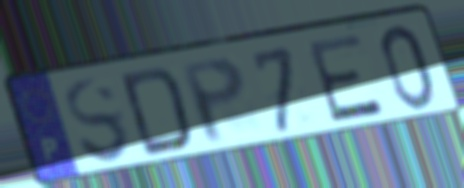0: (377, 22, 438, 114)
7: (250, 42, 297, 135)
D: (117, 64, 196, 161)
E: (302, 30, 388, 126)
P: (176, 54, 249, 148)
S: (62, 76, 135, 167)
